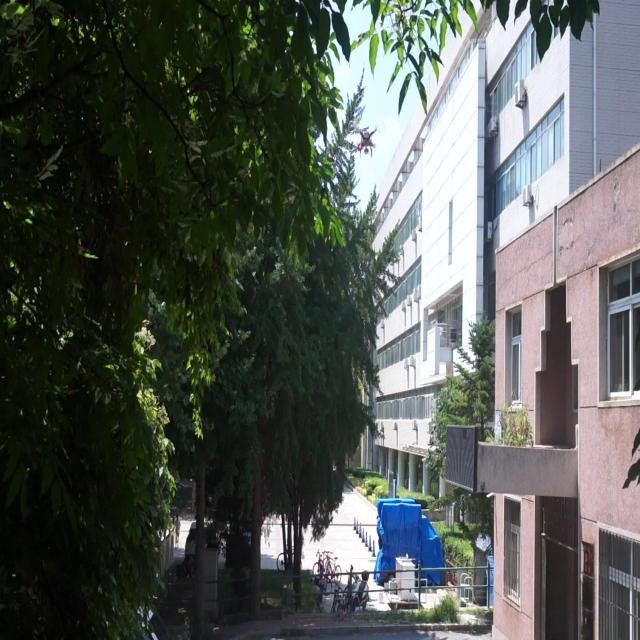UAV: (348, 120, 385, 158)
